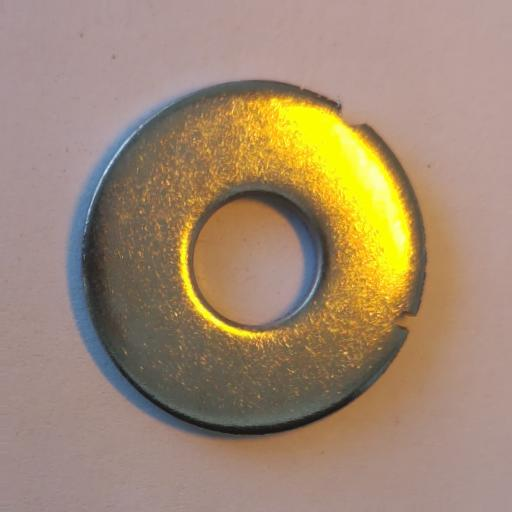burr: (337, 102, 369, 133), (391, 309, 417, 333)
